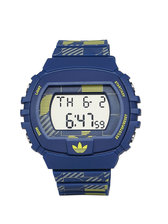watch: (16, 33, 147, 201)
